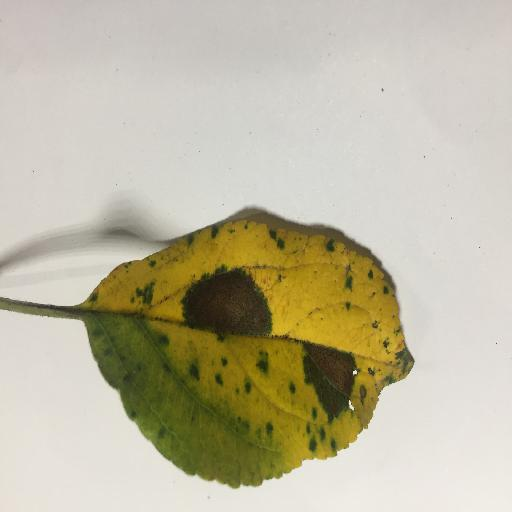Brown_Spot: (182, 280, 271, 333), (308, 346, 354, 396)
